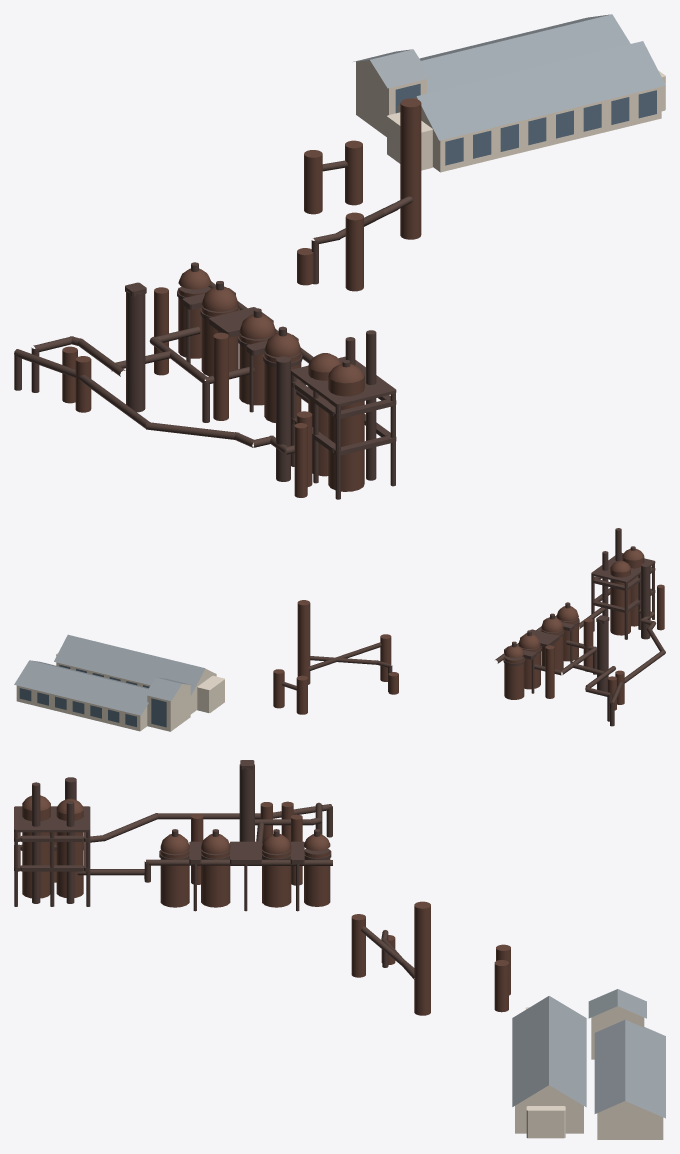
File: sea-gas-works.glb
3 views of the same model, one above another, from view 1: azimuth 30°, elevation 25°; view 2: azimuth 150°, elevation 25°; view 3: azimuth 270°, elevation 25° (orthographic). The views are drawn at different scales.
Visible parts, largest first — view 1: Gas Works Park; view 2: Gas Works Park; view 3: Gas Works Park.
Part boxes in pixels (x1,y1,x2,y2): Gas Works Park: (14, 14, 665, 499); Gas Works Park: (14, 528, 665, 731); Gas Works Park: (14, 760, 665, 1139).
Size of the model in its own units: 168 by 30.38 by 150.
